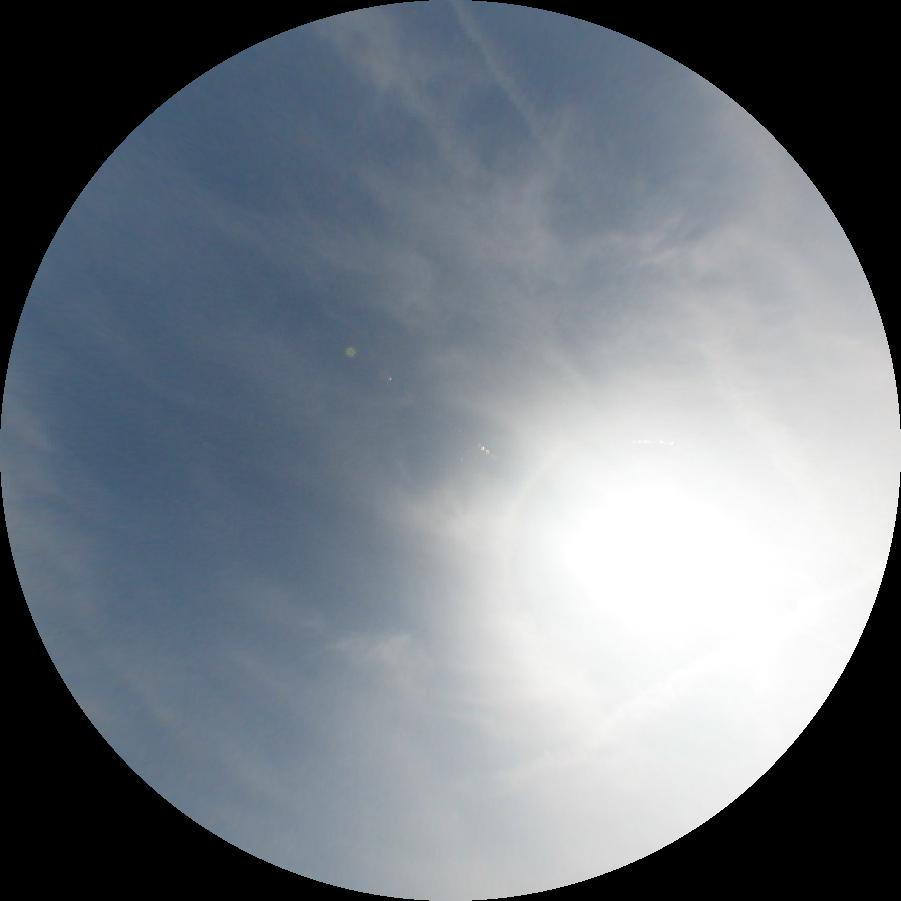contrail veryold: (442, 0, 836, 507)
sun: (578, 472, 804, 640)
